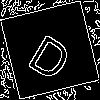D: (25, 25, 79, 83)
